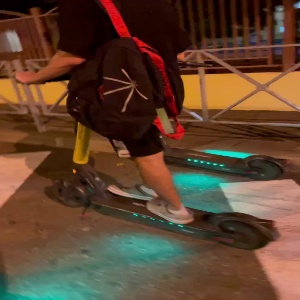human on a scooter: (8, 1, 283, 255)
